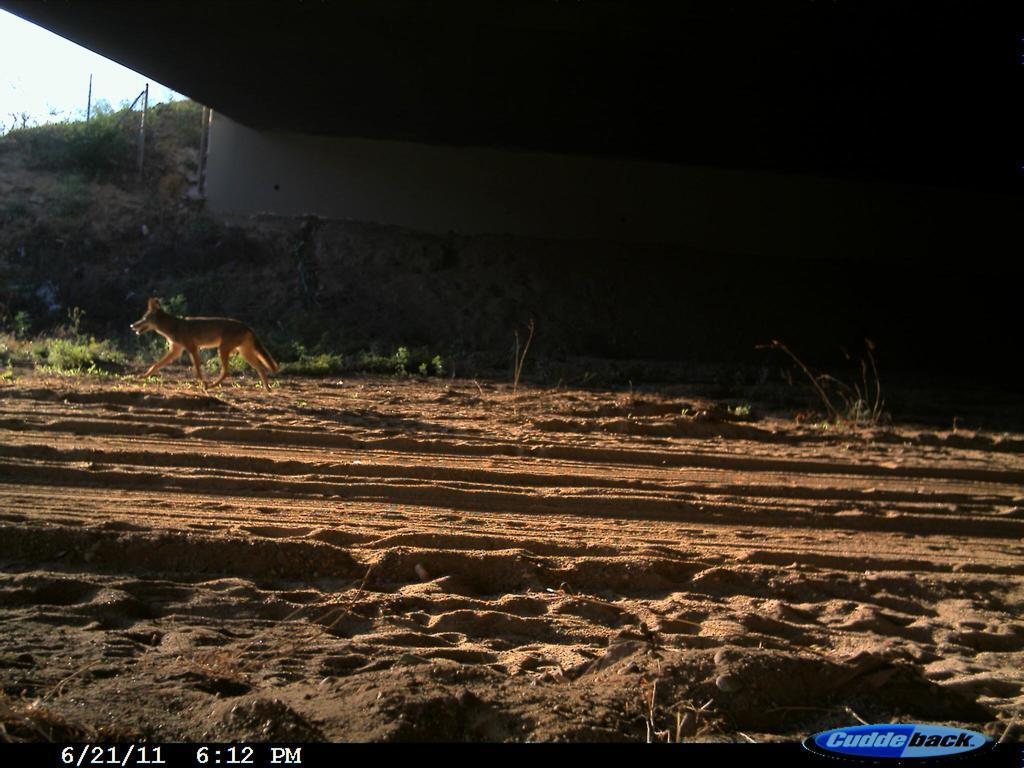coyote: (127, 295, 287, 397)
